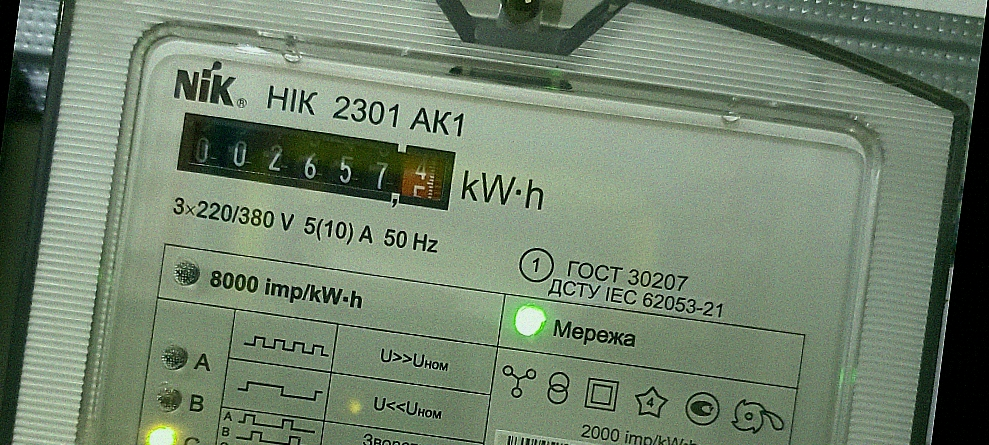0: (230, 136, 249, 168), (192, 133, 212, 163)
2: (265, 141, 285, 172)
4: (412, 153, 430, 180)
5: (336, 152, 355, 184), (410, 182, 427, 198)
6: (301, 148, 319, 180)
7: (372, 157, 390, 191)
screen: (165, 99, 469, 222)
